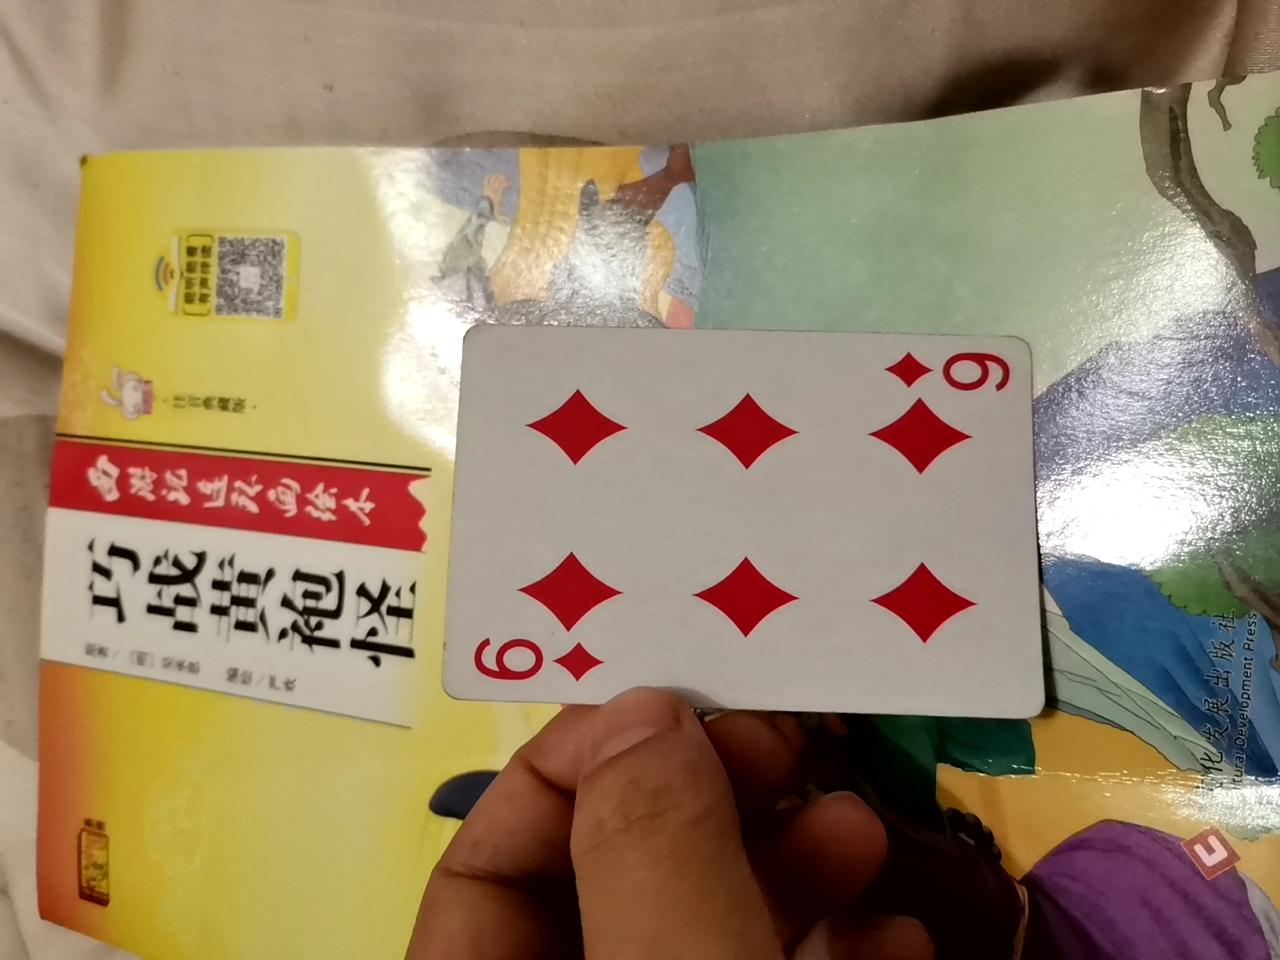fk 6: (435, 315, 1061, 722)
